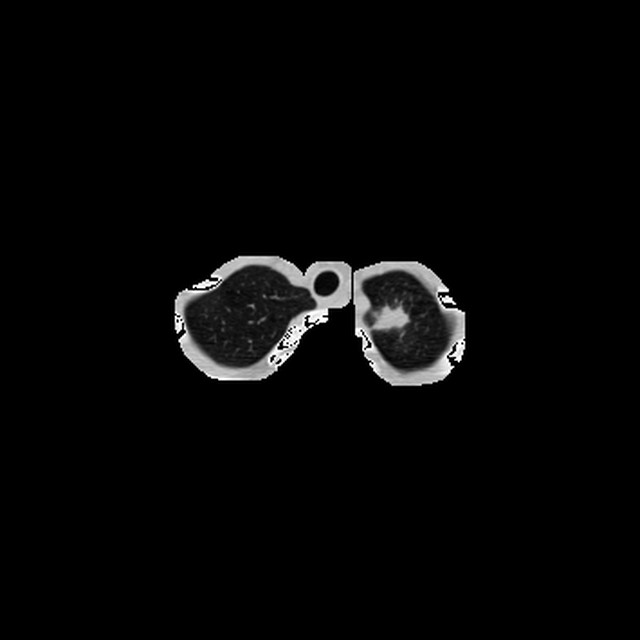PN: (377, 301, 409, 334)
